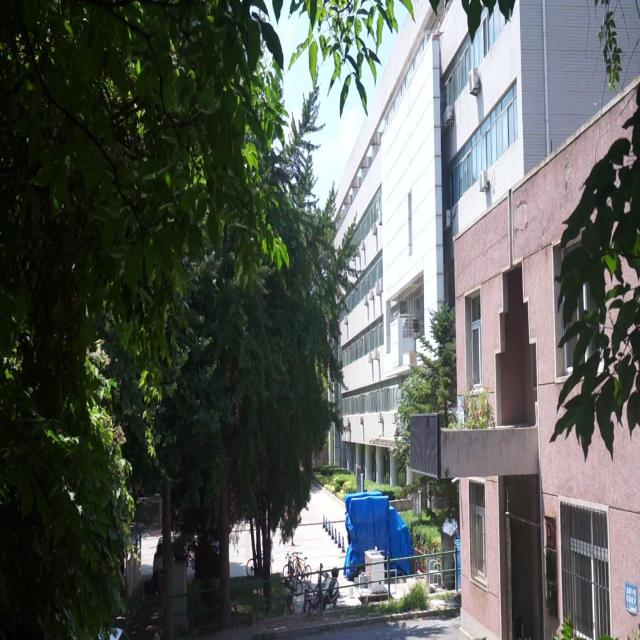UAV: (432, 29, 445, 43)
